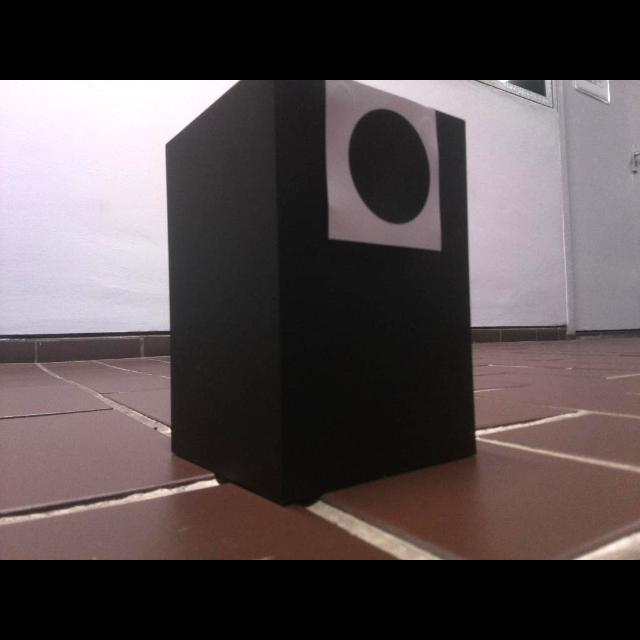CIRCLE: (343, 103, 437, 233)
